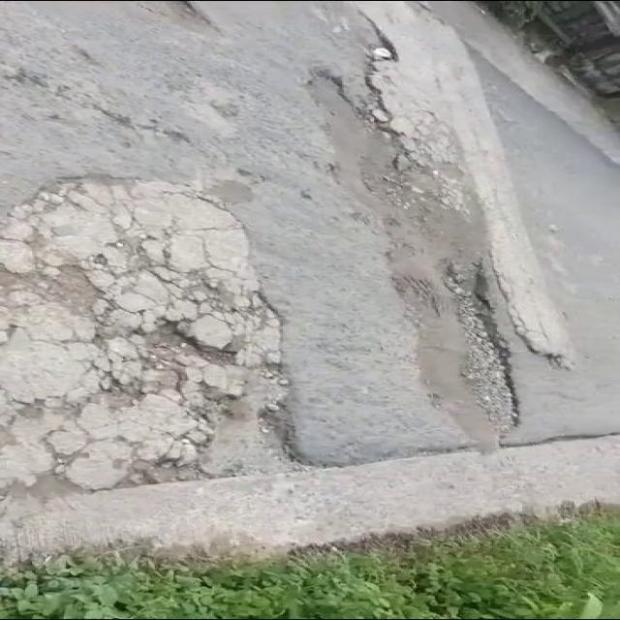lubang: (0, 180, 286, 499), (310, 70, 517, 449), (315, 9, 400, 132), (161, 0, 220, 37)
